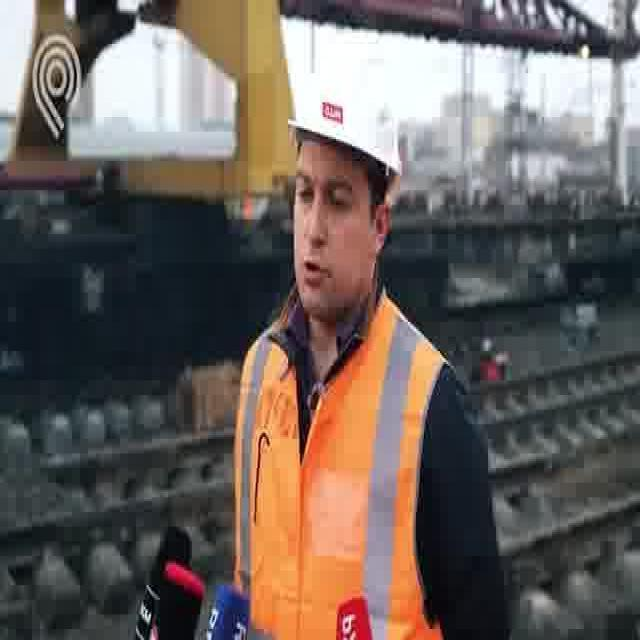helmet: (286, 56, 404, 182)
safety_vest: (229, 278, 459, 640)
